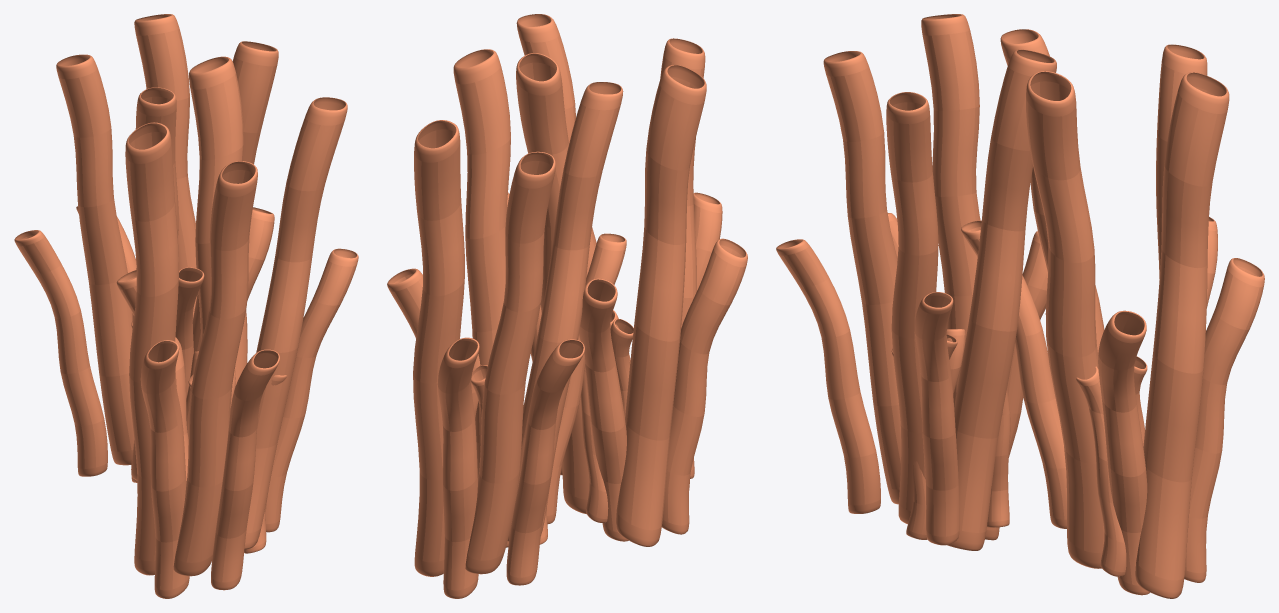
The model's file is plant5_1.fbx.
3 renders of one model, left to right at view 1: azimuth 30°, elevation 25°; view 2: azimuth 150°, elevation 25°; view 3: azimuth 270°, elevation 25°, orthographic. The views are drawn at different scales.
Parts seen in each view (by area): view 1: plant 5, plant5_1; view 2: plant5_1, plant 5; view 3: plant 5, plant5_1.
Part boxes in pixels (left/top/right/bottom): plant 5: left=116, top=56, right=358, bottom=598; plant5_1: left=14, top=14, right=278, bottom=482; plant5_1: left=387, top=49, right=626, bottom=598; plant 5: left=507, top=14, right=747, bottom=546; plant 5: left=776, top=14, right=1056, bottom=550; plant5_1: left=961, top=29, right=1264, bottom=598.
Size of the model in its own units: 12.41 by 23.74 by 20.04.
